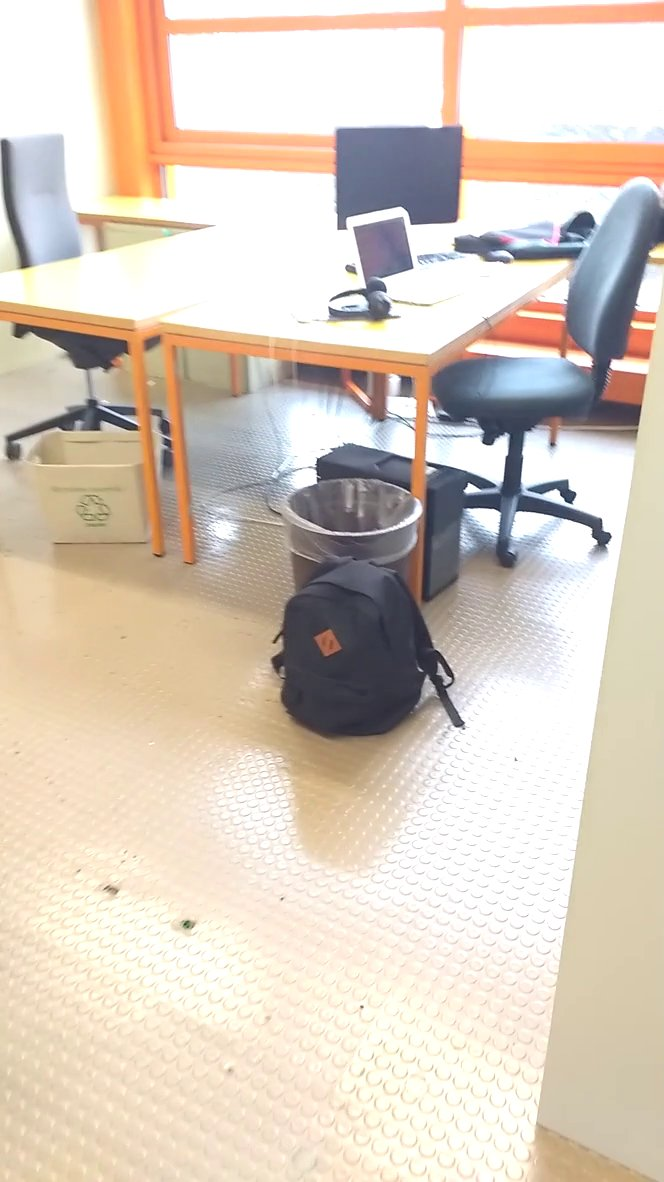bag: (262, 551, 466, 744)
bin: (274, 470, 431, 583)
box: (16, 422, 179, 559)
chair: (443, 158, 664, 585), (2, 122, 159, 408)
laptop: (338, 200, 497, 317)
